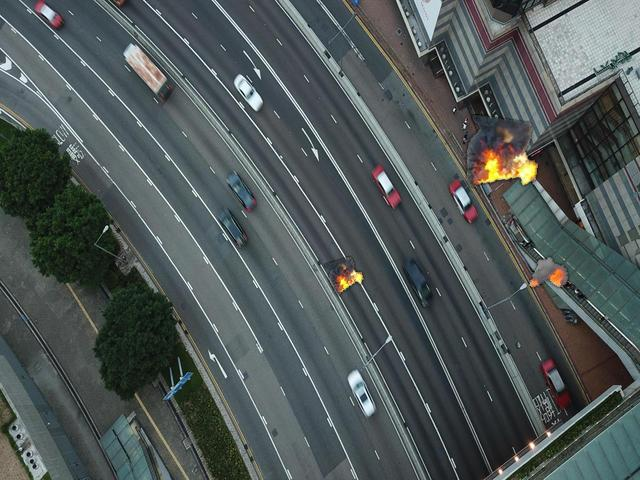fire: (463, 115, 537, 187), (325, 256, 364, 295), (526, 255, 570, 289)
